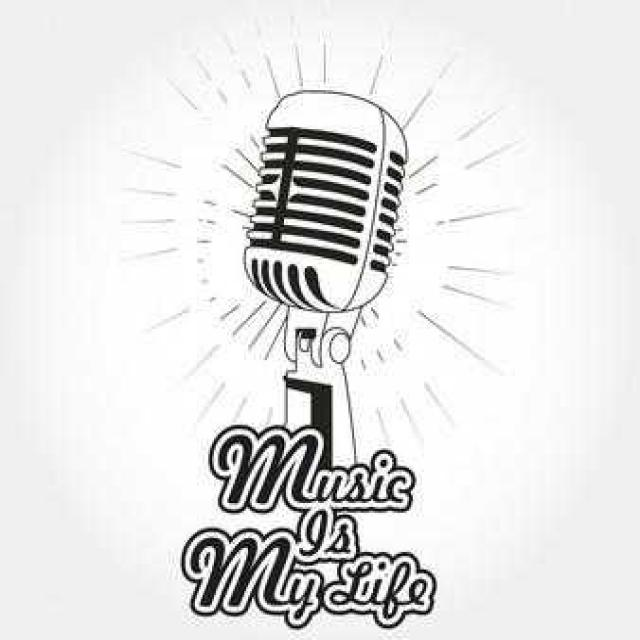microphone: (239, 94, 406, 465)
